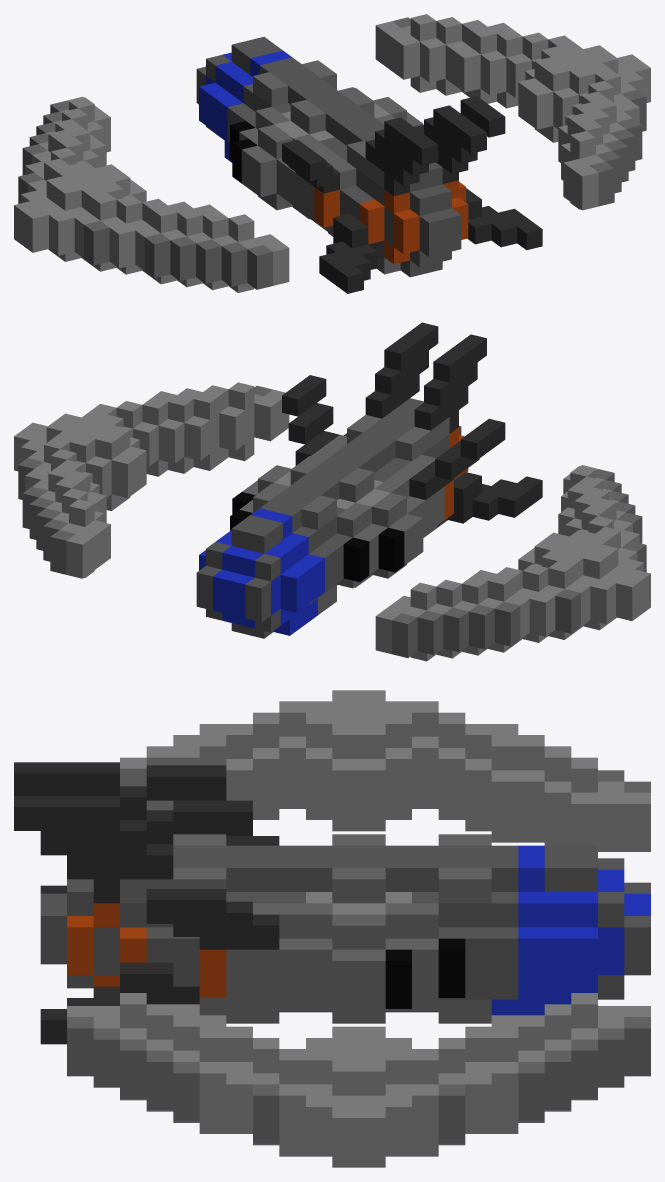
The model's file is Enemy 3.fbx.
3 views of the same model, one above another, from view 1: azimuth 30°, elevation 25°; view 2: azimuth 150°, elevation 25°; view 3: azimuth 270°, elevation 25° (orthographic). The views are drawn at different scales.
Visible parts, largest first — view 1: Matrix; view 2: Matrix; view 3: Matrix.
Part boxes in pixels (<box>): Matrix: <box>14,14,650,293</box>; Matrix: <box>14,322,650,661</box>; Matrix: <box>14,690,650,1167</box>.
Bounding box in the file's own units: 38 × 9 × 24.
